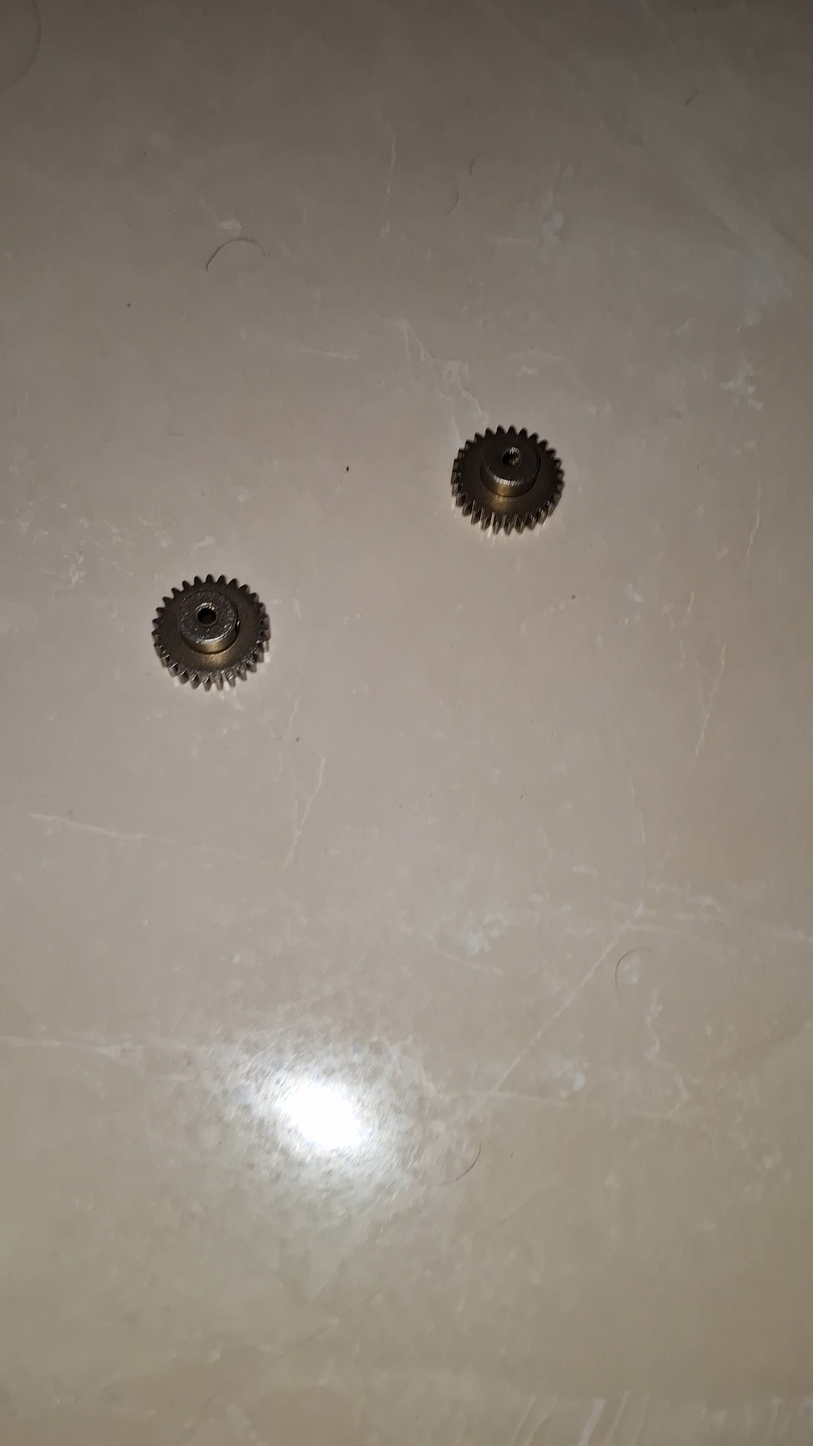spur gear: (153, 574, 270, 689), (452, 428, 563, 532)
